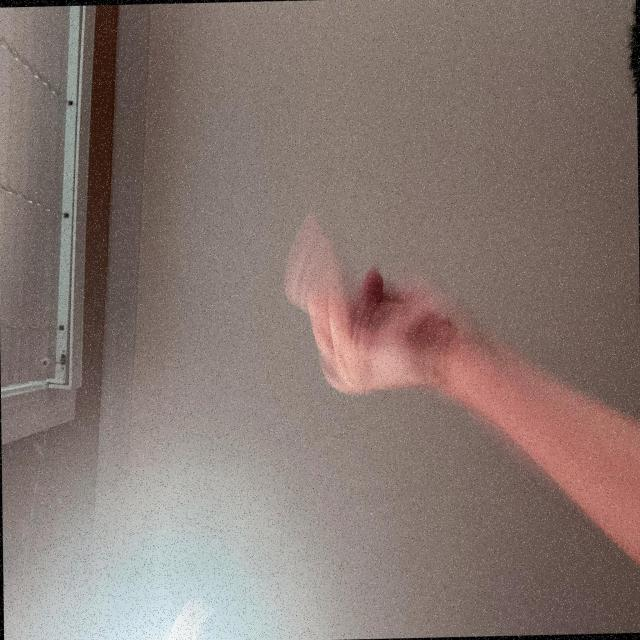J: (173, 372, 336, 640)
